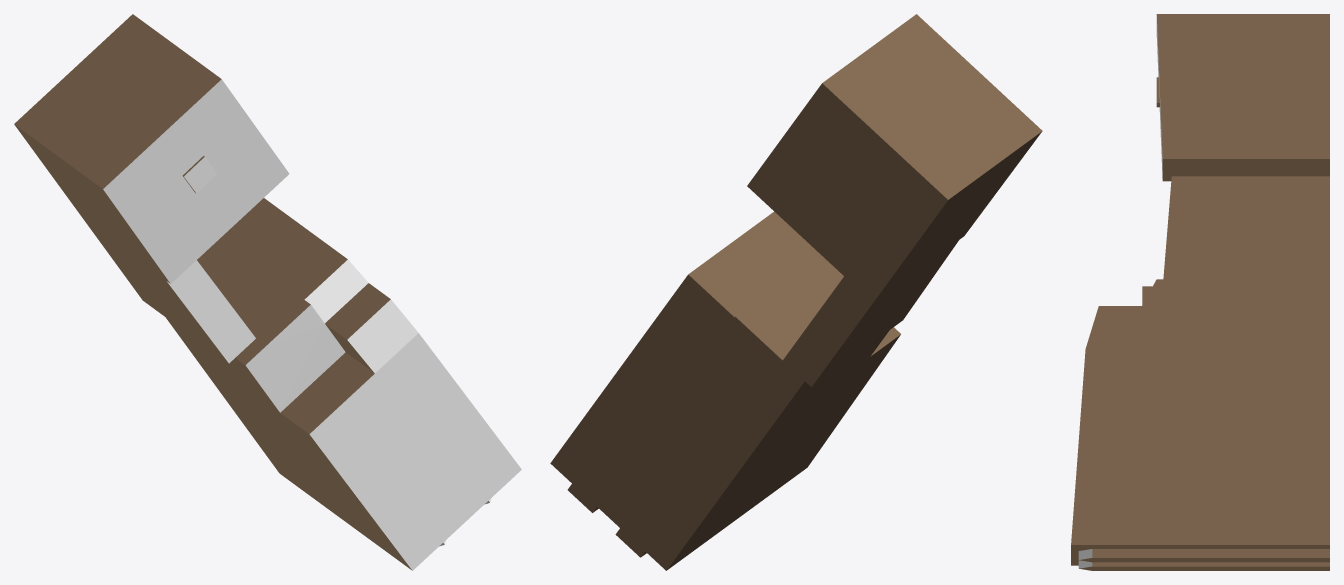
3 renders of one model, left to right at view 1: azimuth 30°, elevation 25°; view 2: azimuth 150°, elevation 25°; view 3: azimuth 270°, elevation 25°, orthographic. The views are drawn at different scales.
Parts seen in each view (by area): view 1: City_1885140; view 2: City_1885140; view 3: City_1885140.
Part boxes in pixels (bbox=[...]): City_1885140: bbox=[14, 14, 521, 570]; City_1885140: bbox=[550, 14, 1042, 570]; City_1885140: bbox=[1071, 14, 1329, 570].
Bounding box in the file's own units: 2167 × 2736 × 1332.
